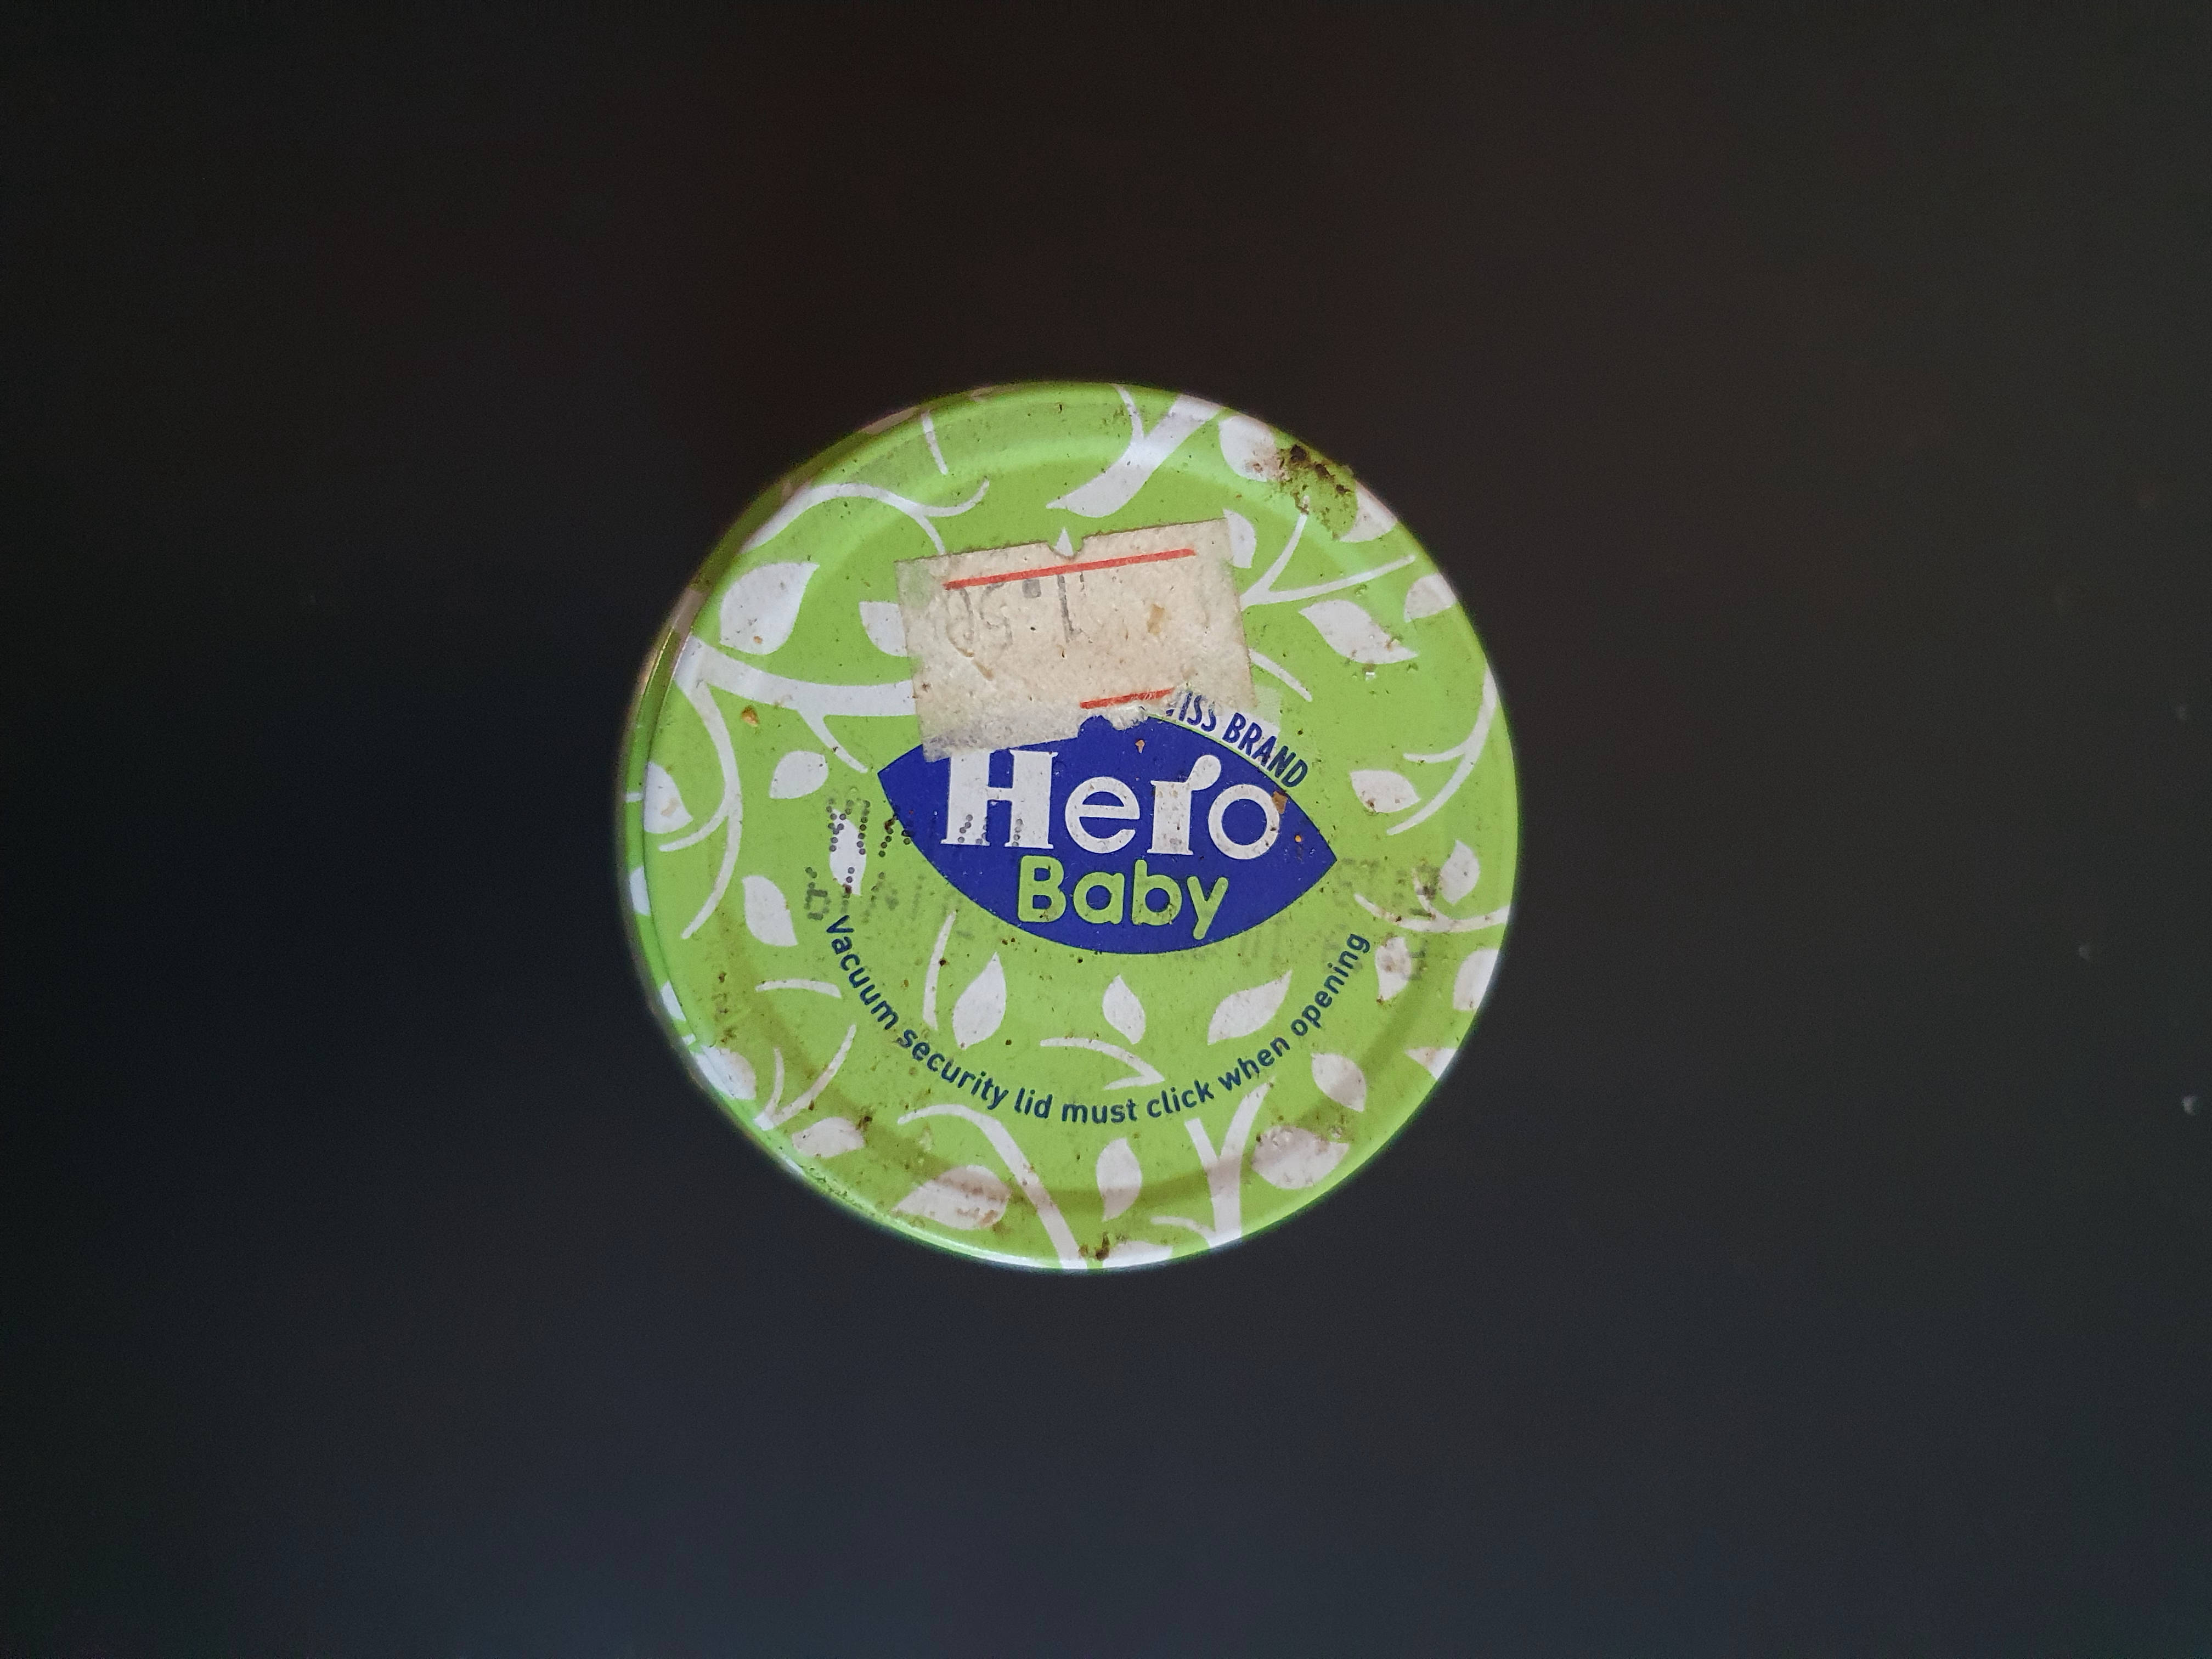metal: (570, 310, 1545, 1323)
